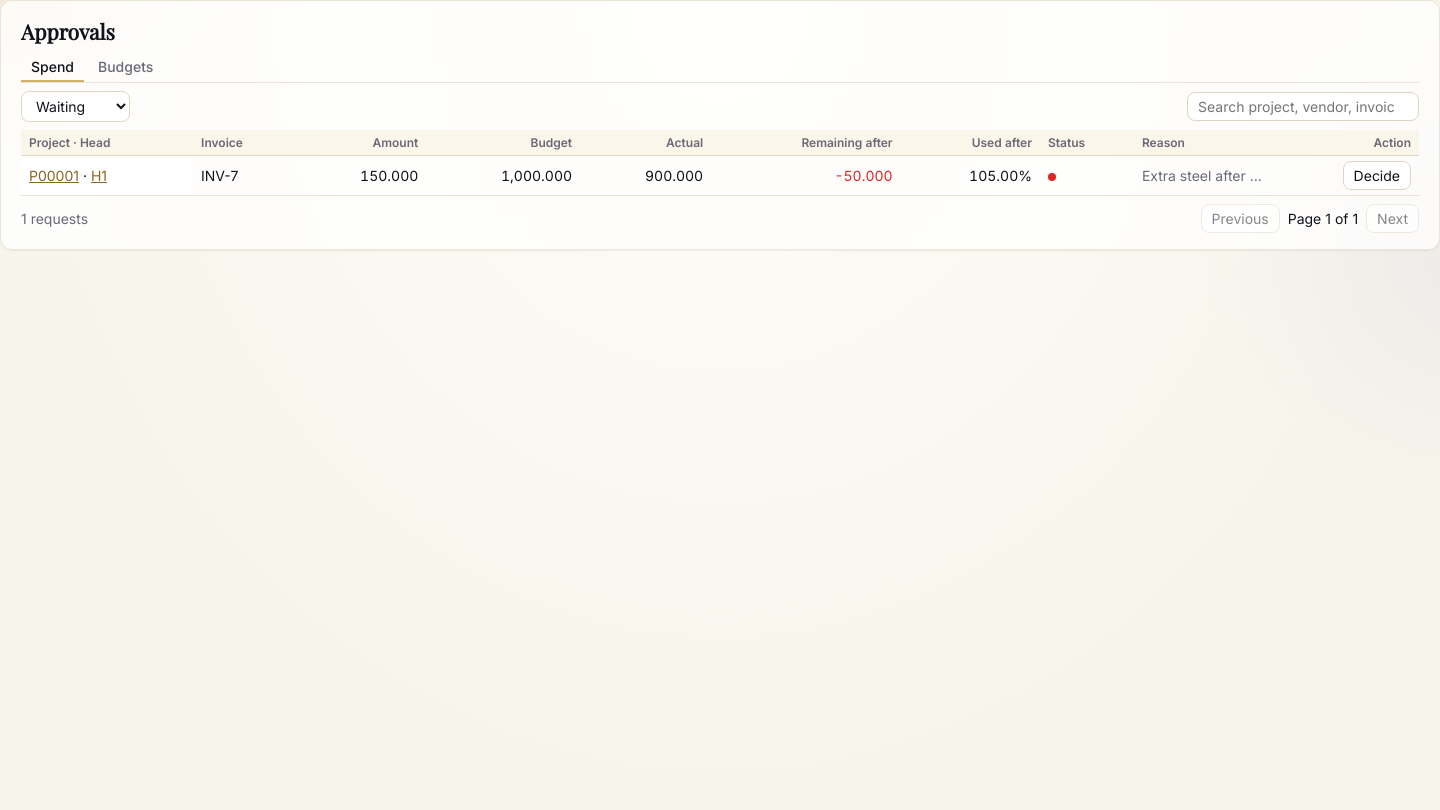
Test case: Approvals › rejects only with a comment, and shows the server refusing self-approval
Click the button "Decide" at (1377, 176), box x1=1343 y1=161 x2=1411 y2=190
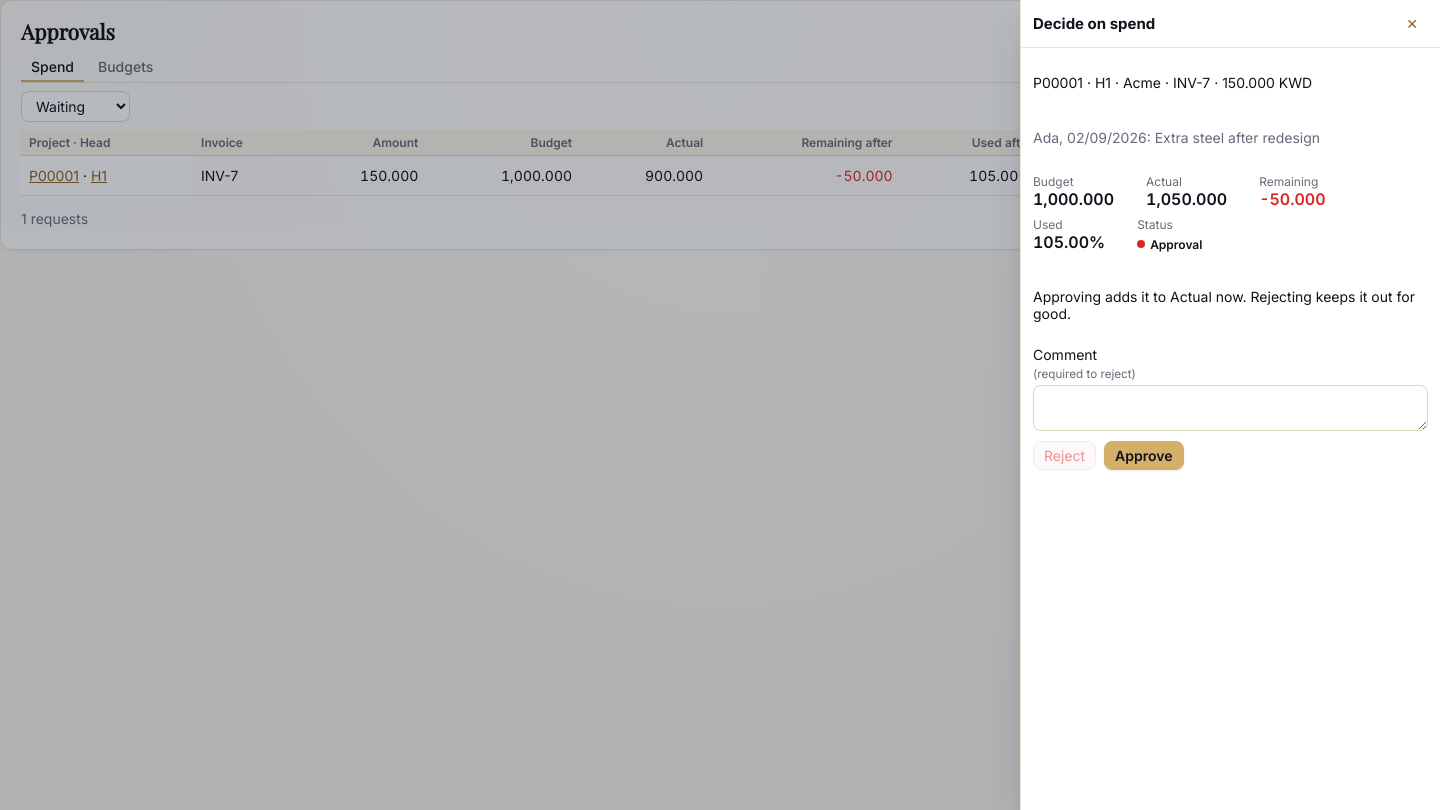
Result: the button "Reject" is disabled at x1=1033 y1=441 x2=1096 y2=470
Type "No" into the text box labelled "Comment (required to reject)" at (1230, 408), box x1=1033 y1=385 x2=1428 y2=431
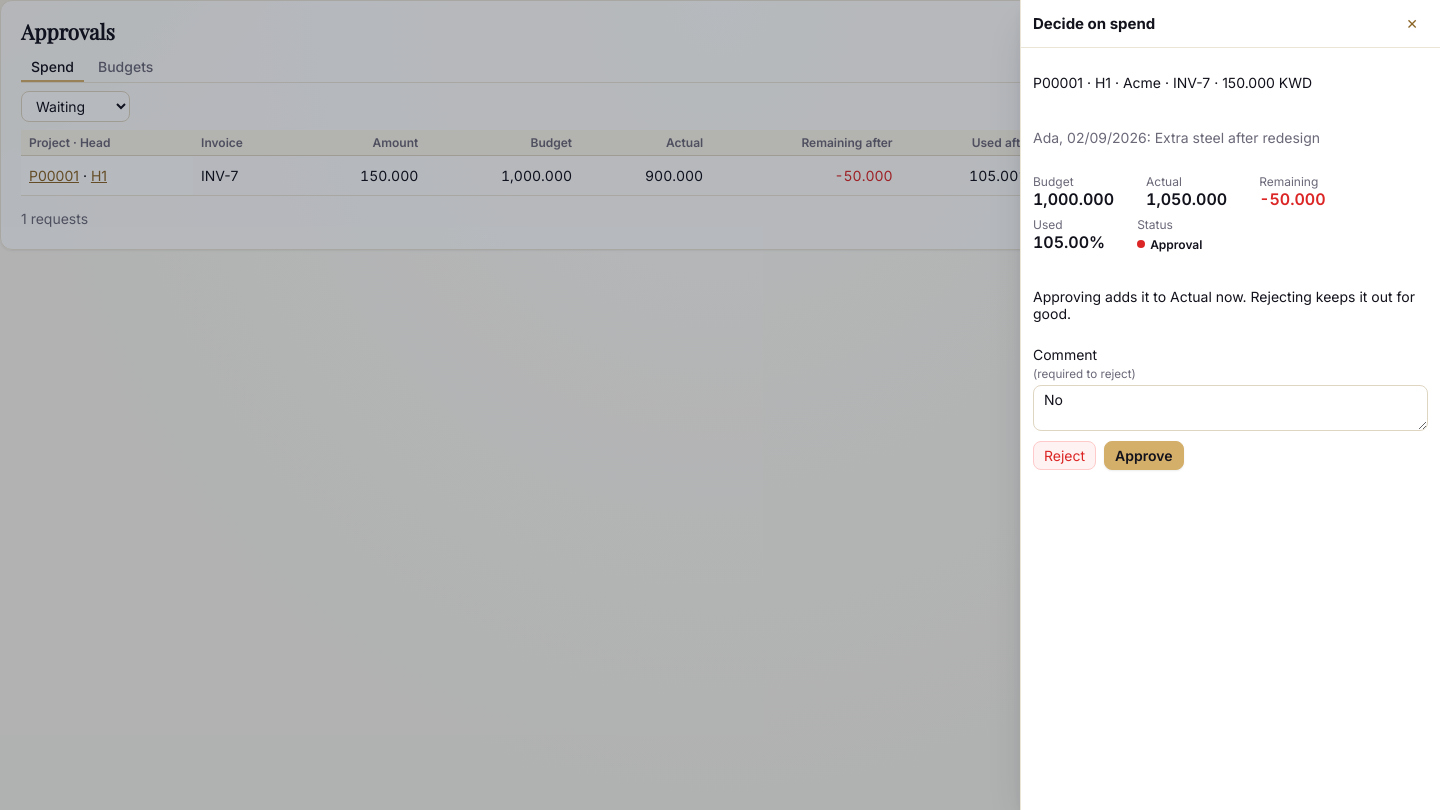
Click the button "Reject" at (1065, 456), box x1=1033 y1=441 x2=1096 y2=470
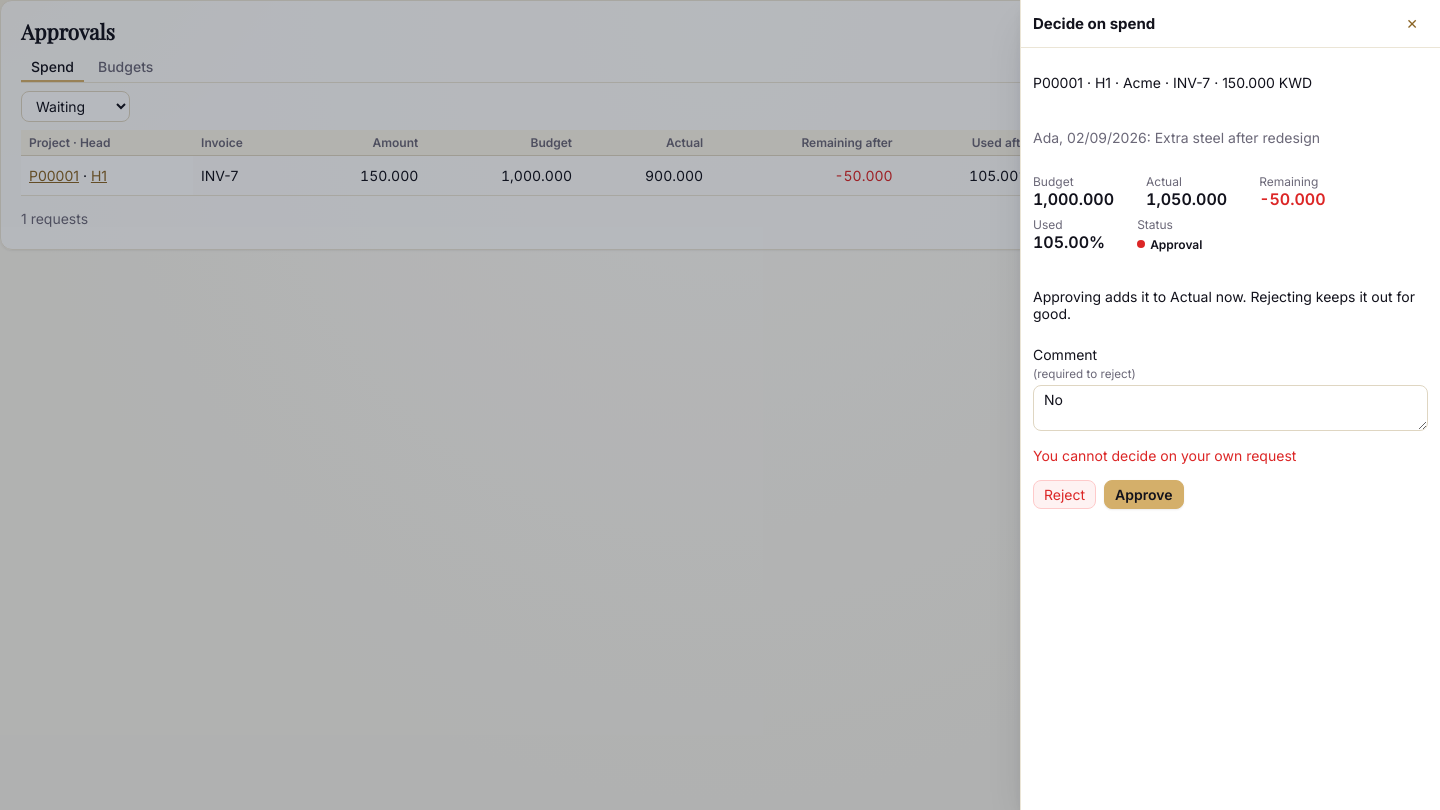
Result: the message reads "You cannot decide on your own request" at x1=1033 y1=447 x2=1296 y2=464
